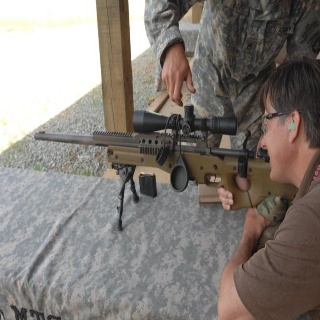rifle: (33, 101, 301, 233)
